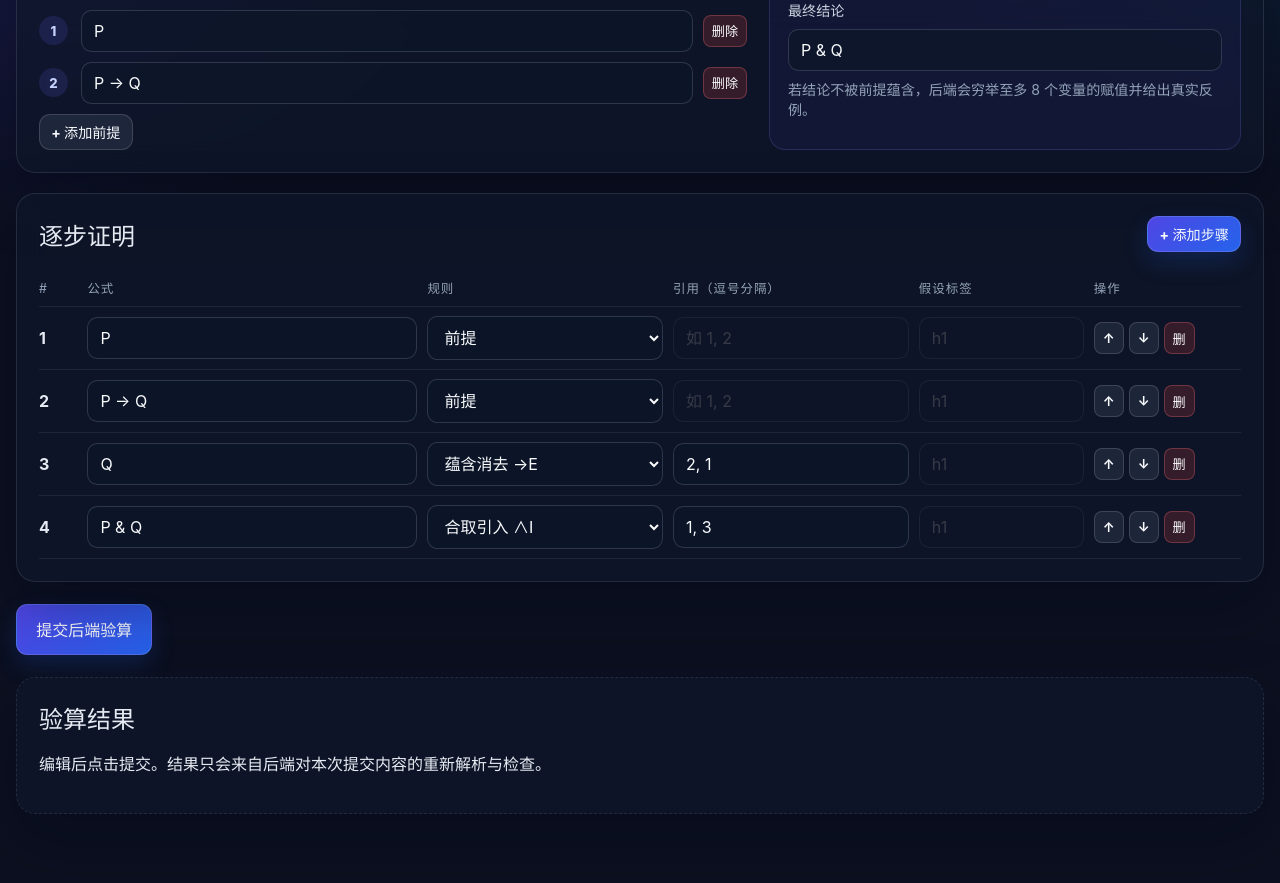
Test: React 编辑与后端结果归属 › 把页面中的前提、结论和每一步提交给后端，而不是只依赖页面状态
(page scrolled)
Click the button "提交后端验算" at (84, 629), box top-left (16, 604), bottom-right (152, 655)
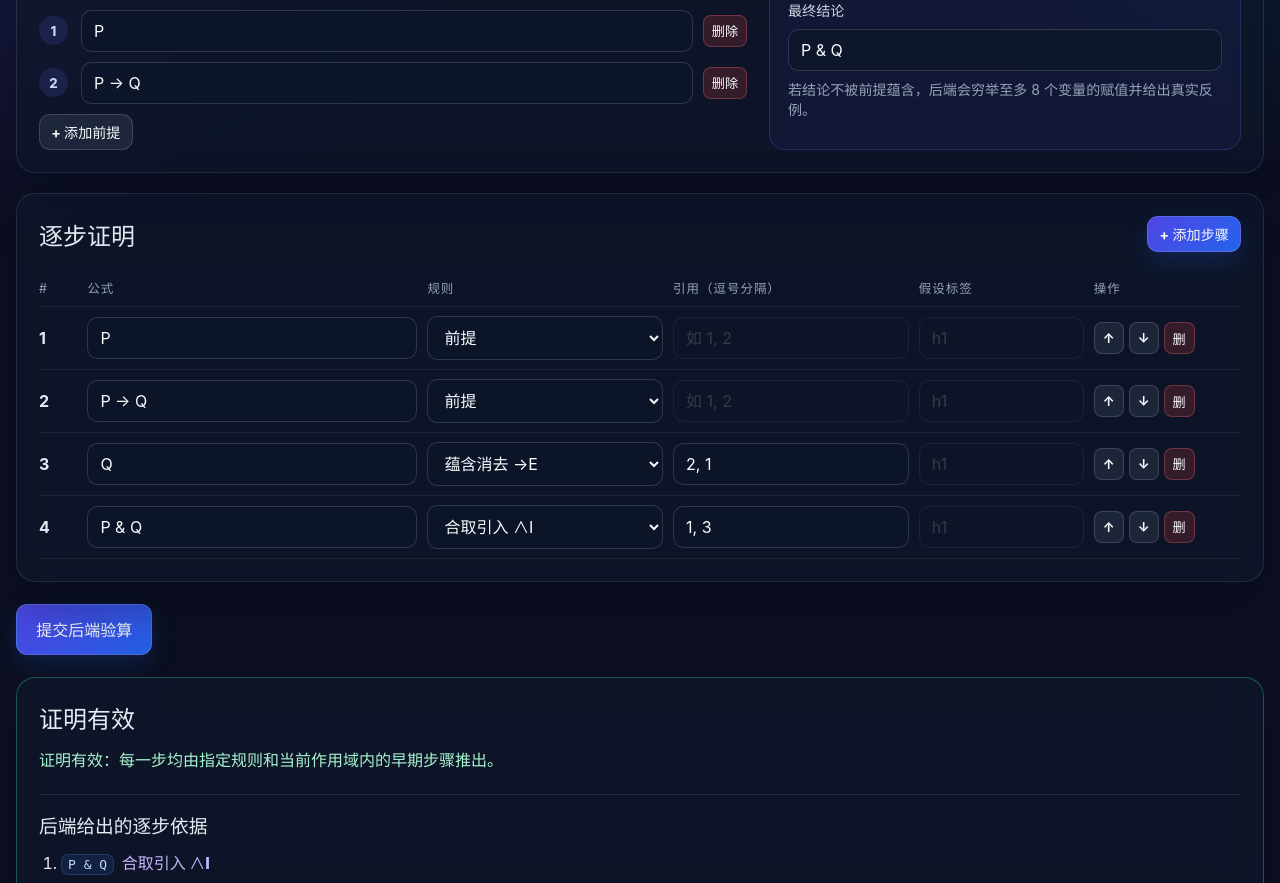
Expected: the heading "证明有效" is shown, top-left (39, 705), bottom-right (135, 734)
